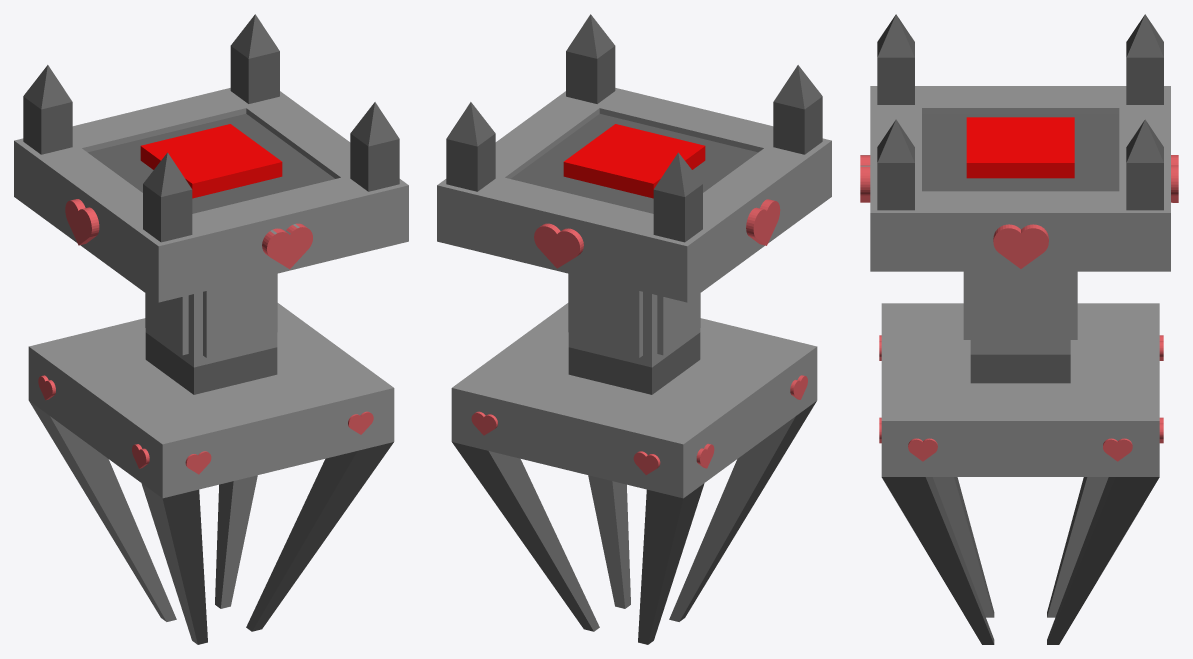
File: HealingAltar.fbx
3 views of the same model, side by side, from view 1: azimuth 30°, elevation 25°; view 2: azimuth 150°, elevation 25°; view 3: azimuth 270°, elevation 25° (orthographic). The views are drawn at different scales.
Visible parts, largest first — view 1: Altar; view 2: Altar; view 3: Altar.
Boxes of the visible parts, x1,y1,x2,y2 form: Altar: [14, 14, 408, 644]; Altar: [437, 14, 831, 644]; Altar: [860, 14, 1178, 644].
Size of the model in its own units: 229 by 446 by 229.
